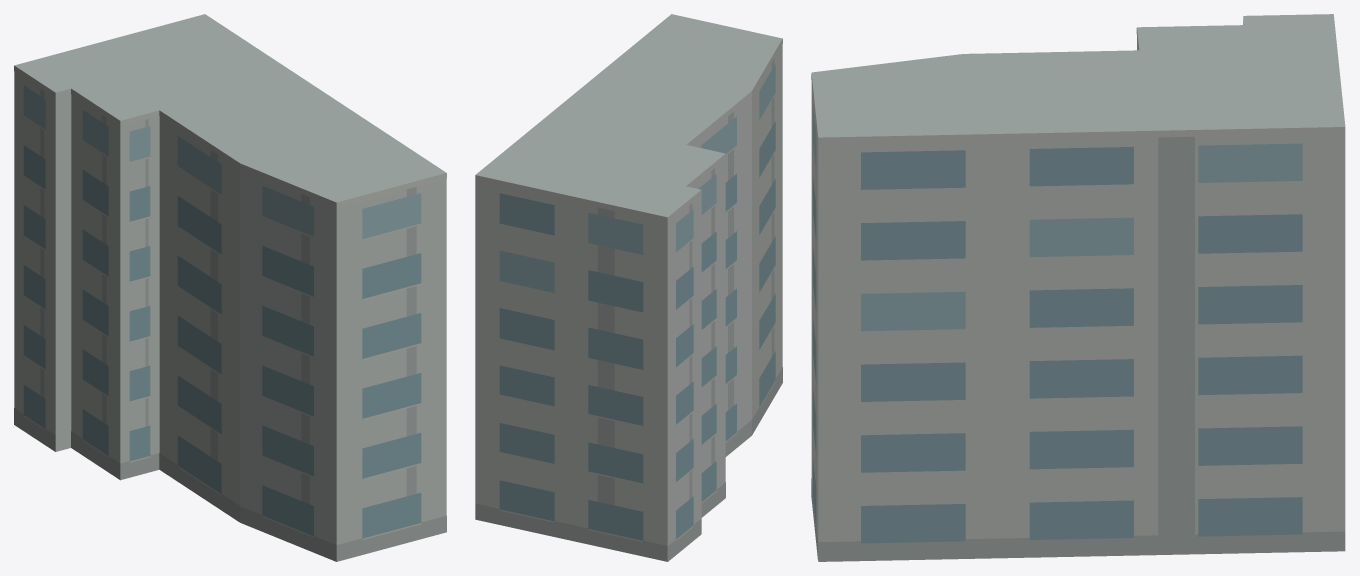
The model's file is survey-upis-33035788.glb.
3 views of the same model, side by side, from view 1: azimuth 30°, elevation 25°; view 2: azimuth 150°, elevation 25°; view 3: azimuth 270°, elevation 25° (orthographic). The views are drawn at different scales.
Visible parts, largest first — view 1: survey-upis-33035788.tmp; view 2: survey-upis-33035788.tmp; view 3: survey-upis-33035788.tmp.
Boxes of the visible parts, x1=… form: survey-upis-33035788.tmp: x1=14, y1=14, x2=446, y2=561; survey-upis-33035788.tmp: x1=475, y1=14, x2=782, y2=561; survey-upis-33035788.tmp: x1=811, y1=14, x2=1345, y2=561.
Size of the model in its own units: 9.56 by 15.3 by 17.46.
